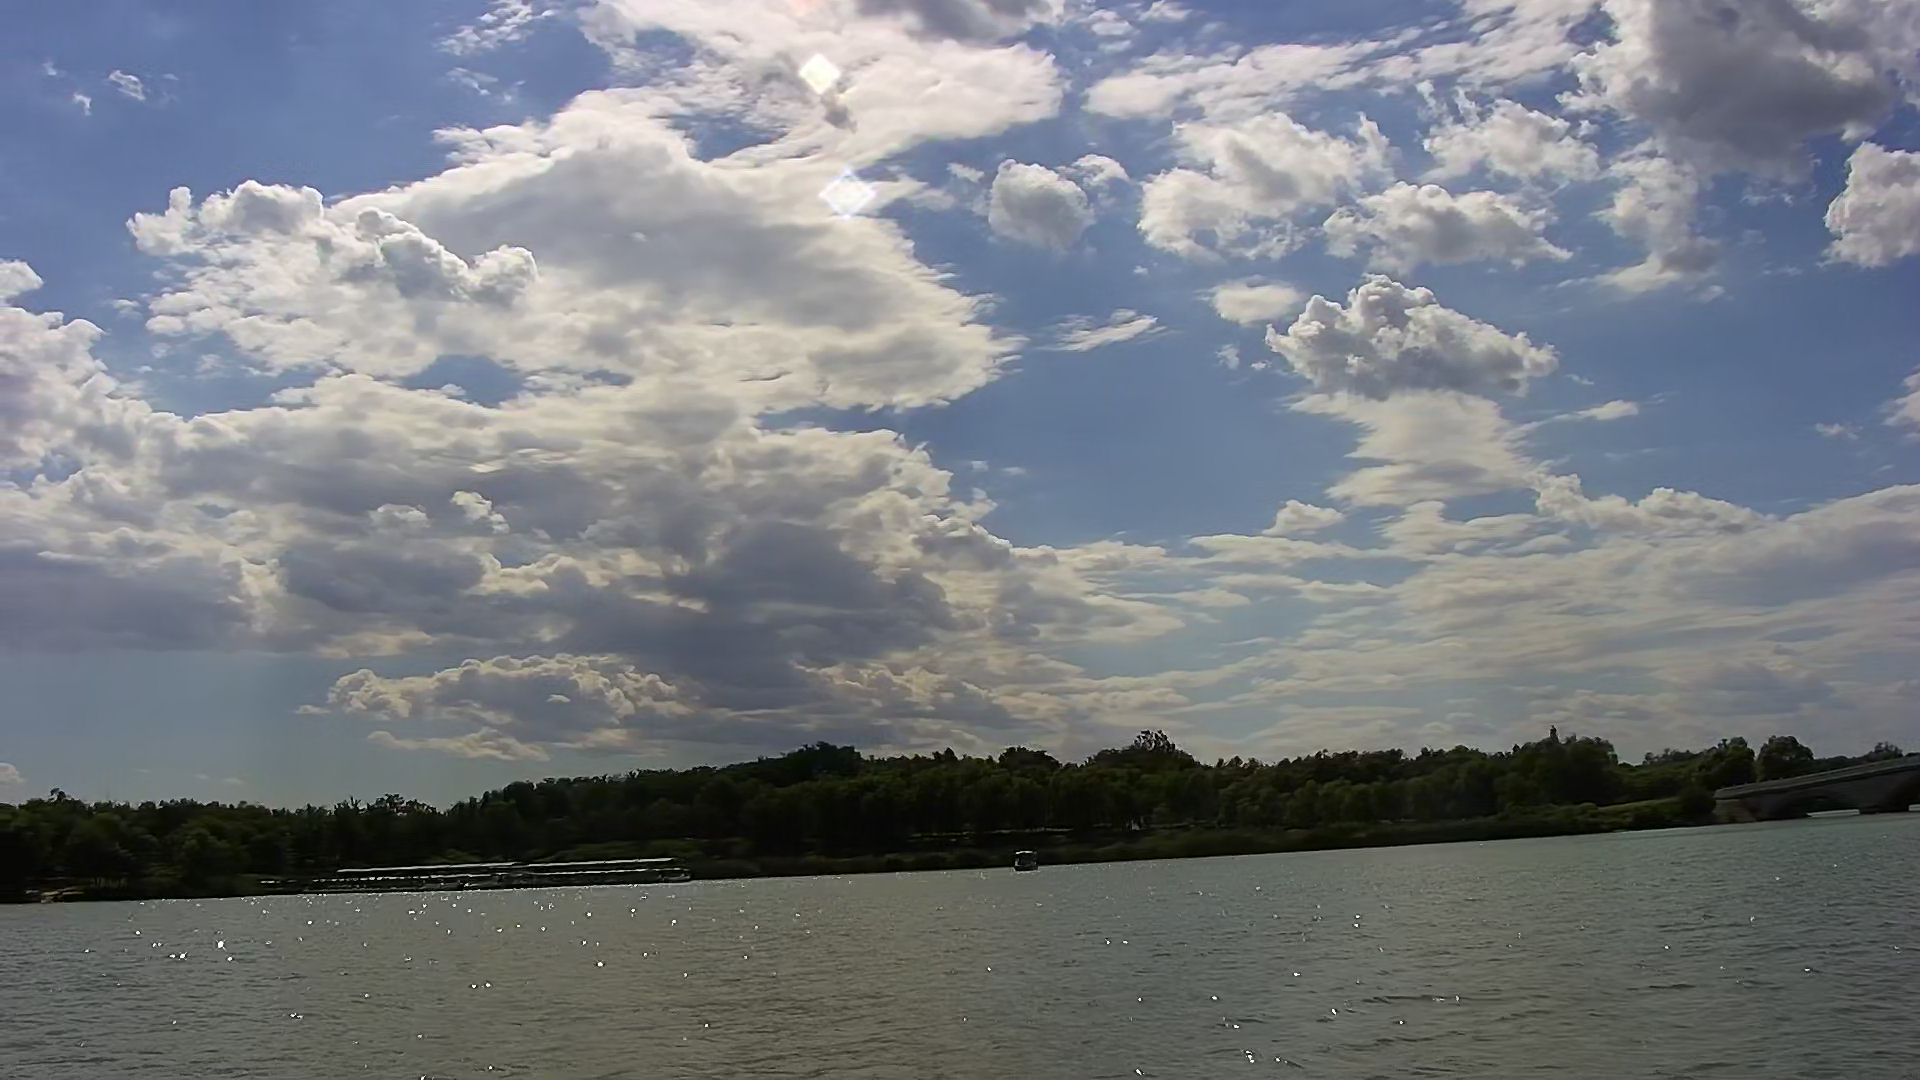boat: (1006, 845, 1044, 874)
bridge: (1710, 754, 1920, 825)
harbor: (323, 852, 684, 891)
